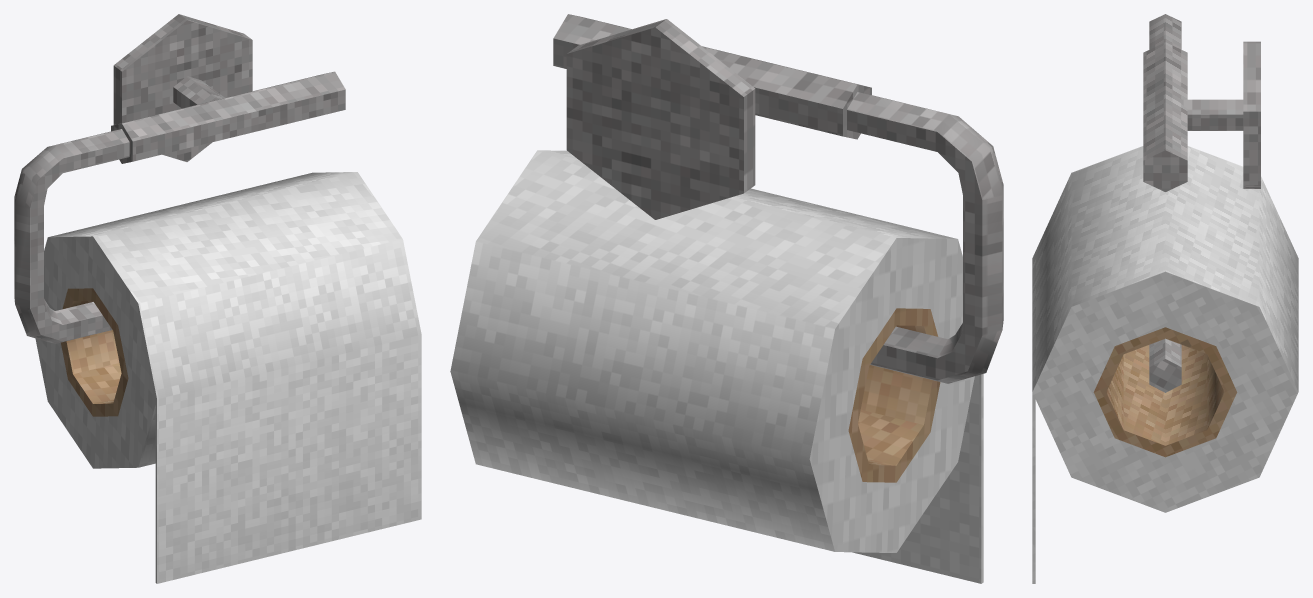
File: toilet_paper_.fbx
3 views of the same model, side by side, from view 1: azimuth 30°, elevation 25°; view 2: azimuth 150°, elevation 25°; view 3: azimuth 270°, elevation 25° (orthographic). The views are drawn at different scales.
Visible parts, largest first — view 1: Bathroom_ToiletPaper; view 2: Bathroom_ToiletPaper; view 3: Bathroom_ToiletPaper.
Part boxes in pixels (box(x1,y1,x2,y2)): Bathroom_ToiletPaper: box(14, 14, 421, 583); Bathroom_ToiletPaper: box(450, 14, 1003, 583); Bathroom_ToiletPaper: box(1032, 14, 1298, 583).
Bounding box in the file's own units: 34.57 × 39.7 × 20.16.
